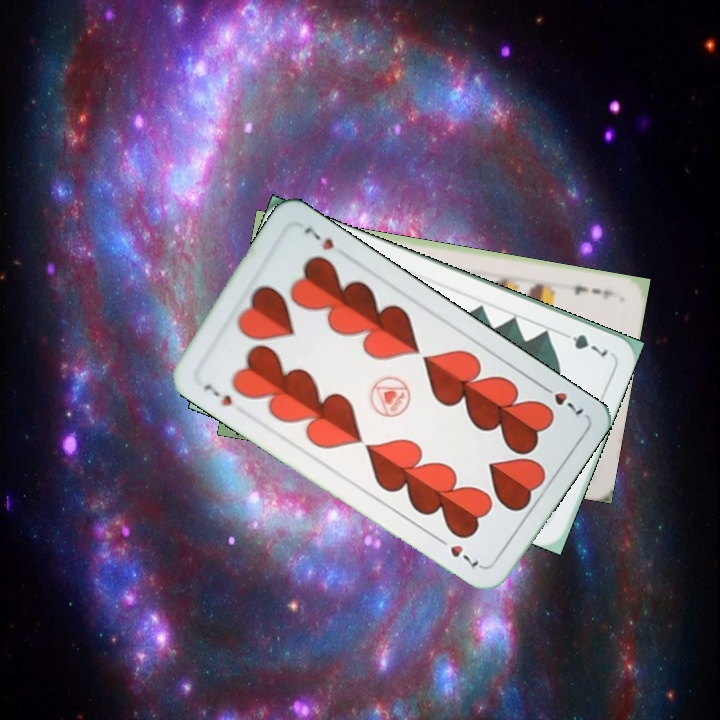E7: (569, 281, 620, 302)
G7: (556, 327, 611, 360)
H7: (535, 380, 586, 418), (199, 379, 235, 409)
